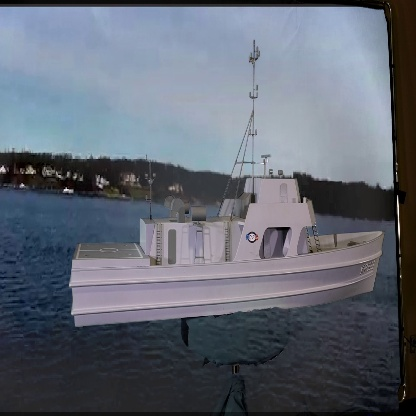YP689: (68, 39, 384, 330)
